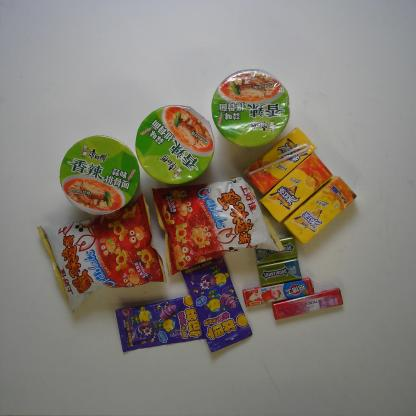Candy: (178, 252, 254, 356), (113, 292, 206, 356), (271, 285, 346, 321), (240, 275, 316, 309)
Drink: (258, 150, 335, 226), (240, 124, 318, 197), (282, 174, 359, 246)
Gum: (252, 234, 302, 268), (256, 256, 304, 288)
Instant Noodles: (55, 132, 142, 217), (132, 103, 218, 187), (209, 67, 292, 150)
Puffed Food: (35, 191, 170, 316), (150, 174, 287, 278)
